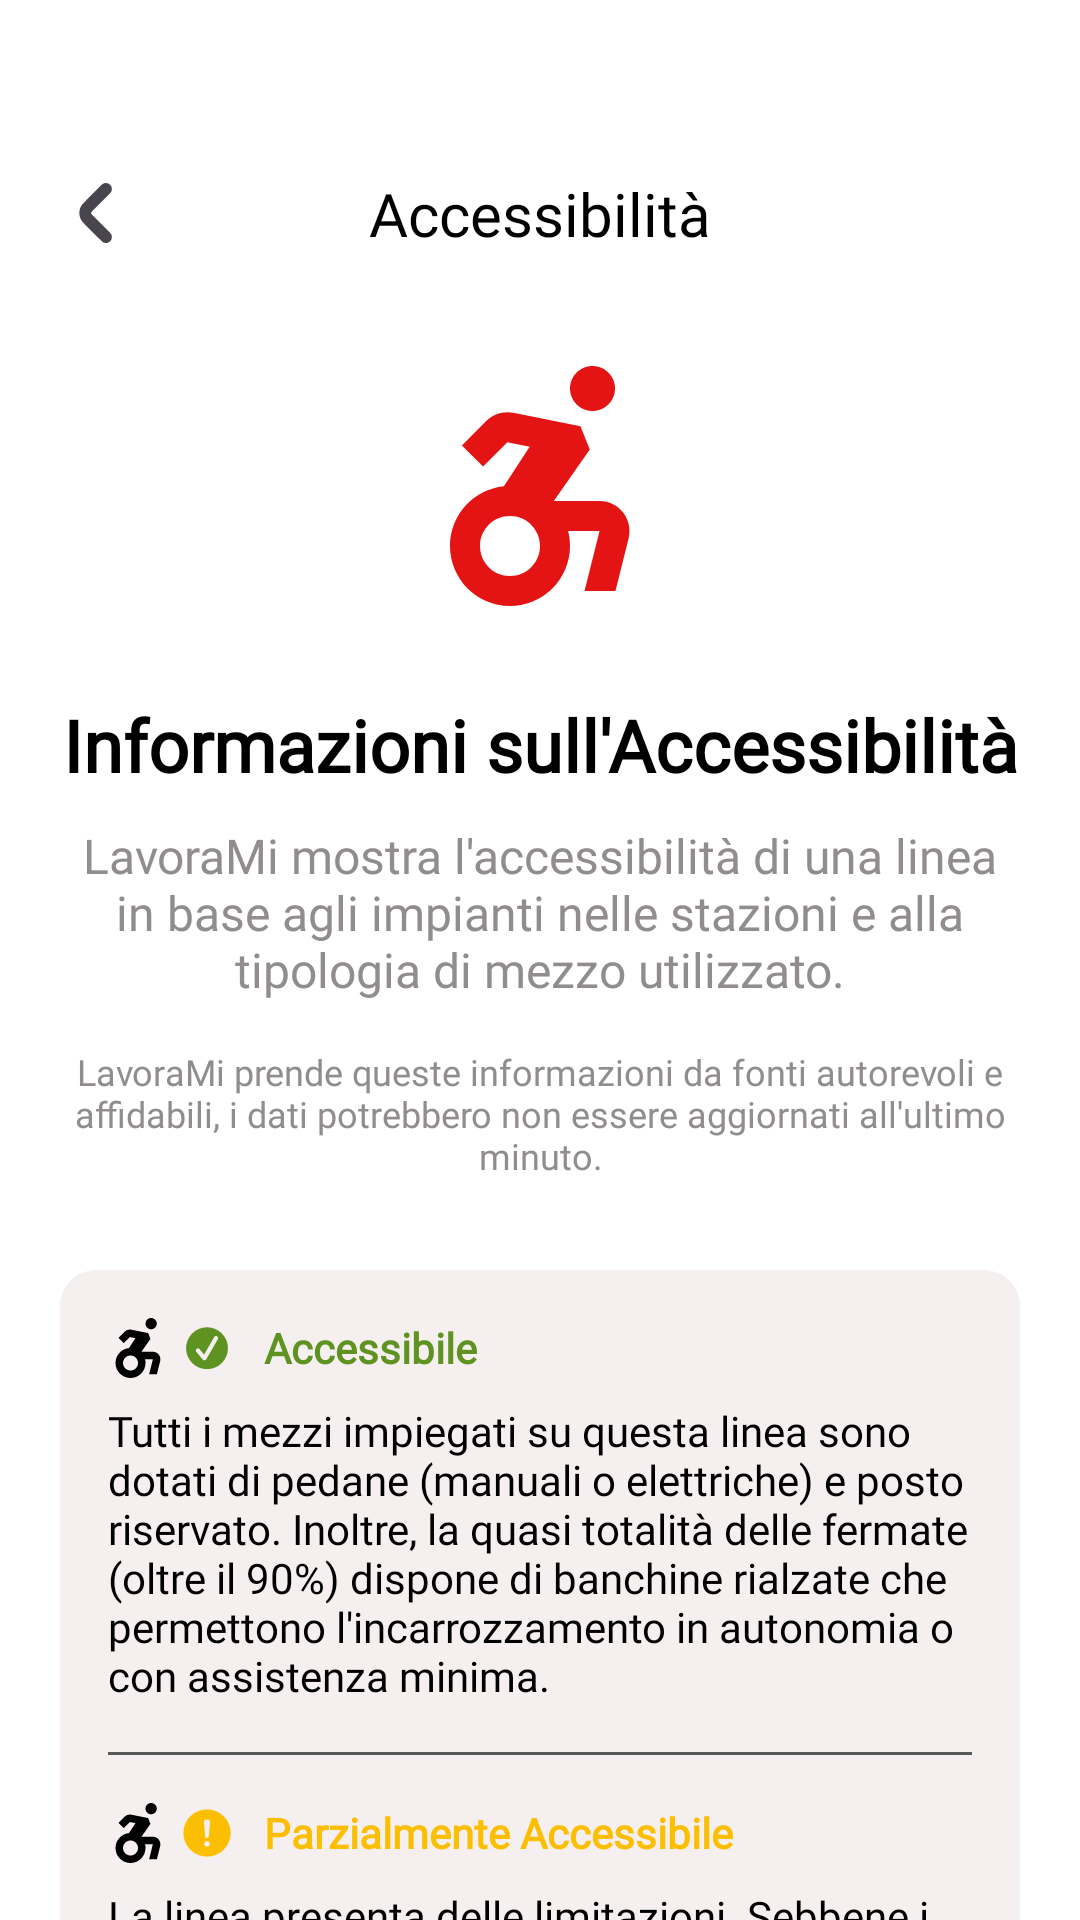

Icon click points for this 1080*1920 phone screenshot, format (x=x, y=y):
accessibility: (x=540, y=486), (x=138, y=1348), (x=138, y=1833)
back: (x=95, y=213)
checkmark: (x=207, y=1348)
warning: (x=207, y=1833)
